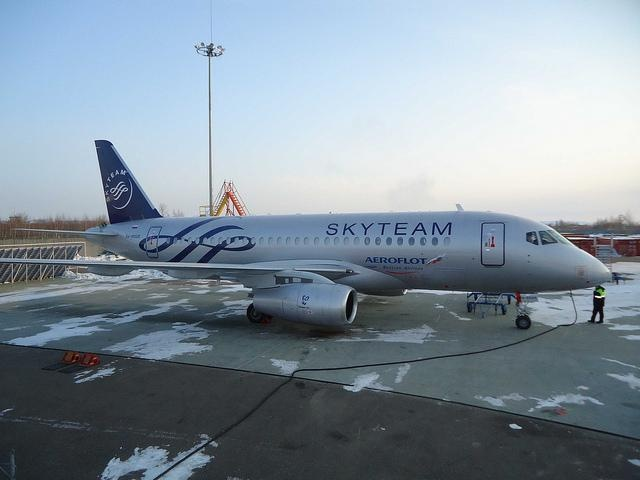airplane: (4, 135, 619, 337)
